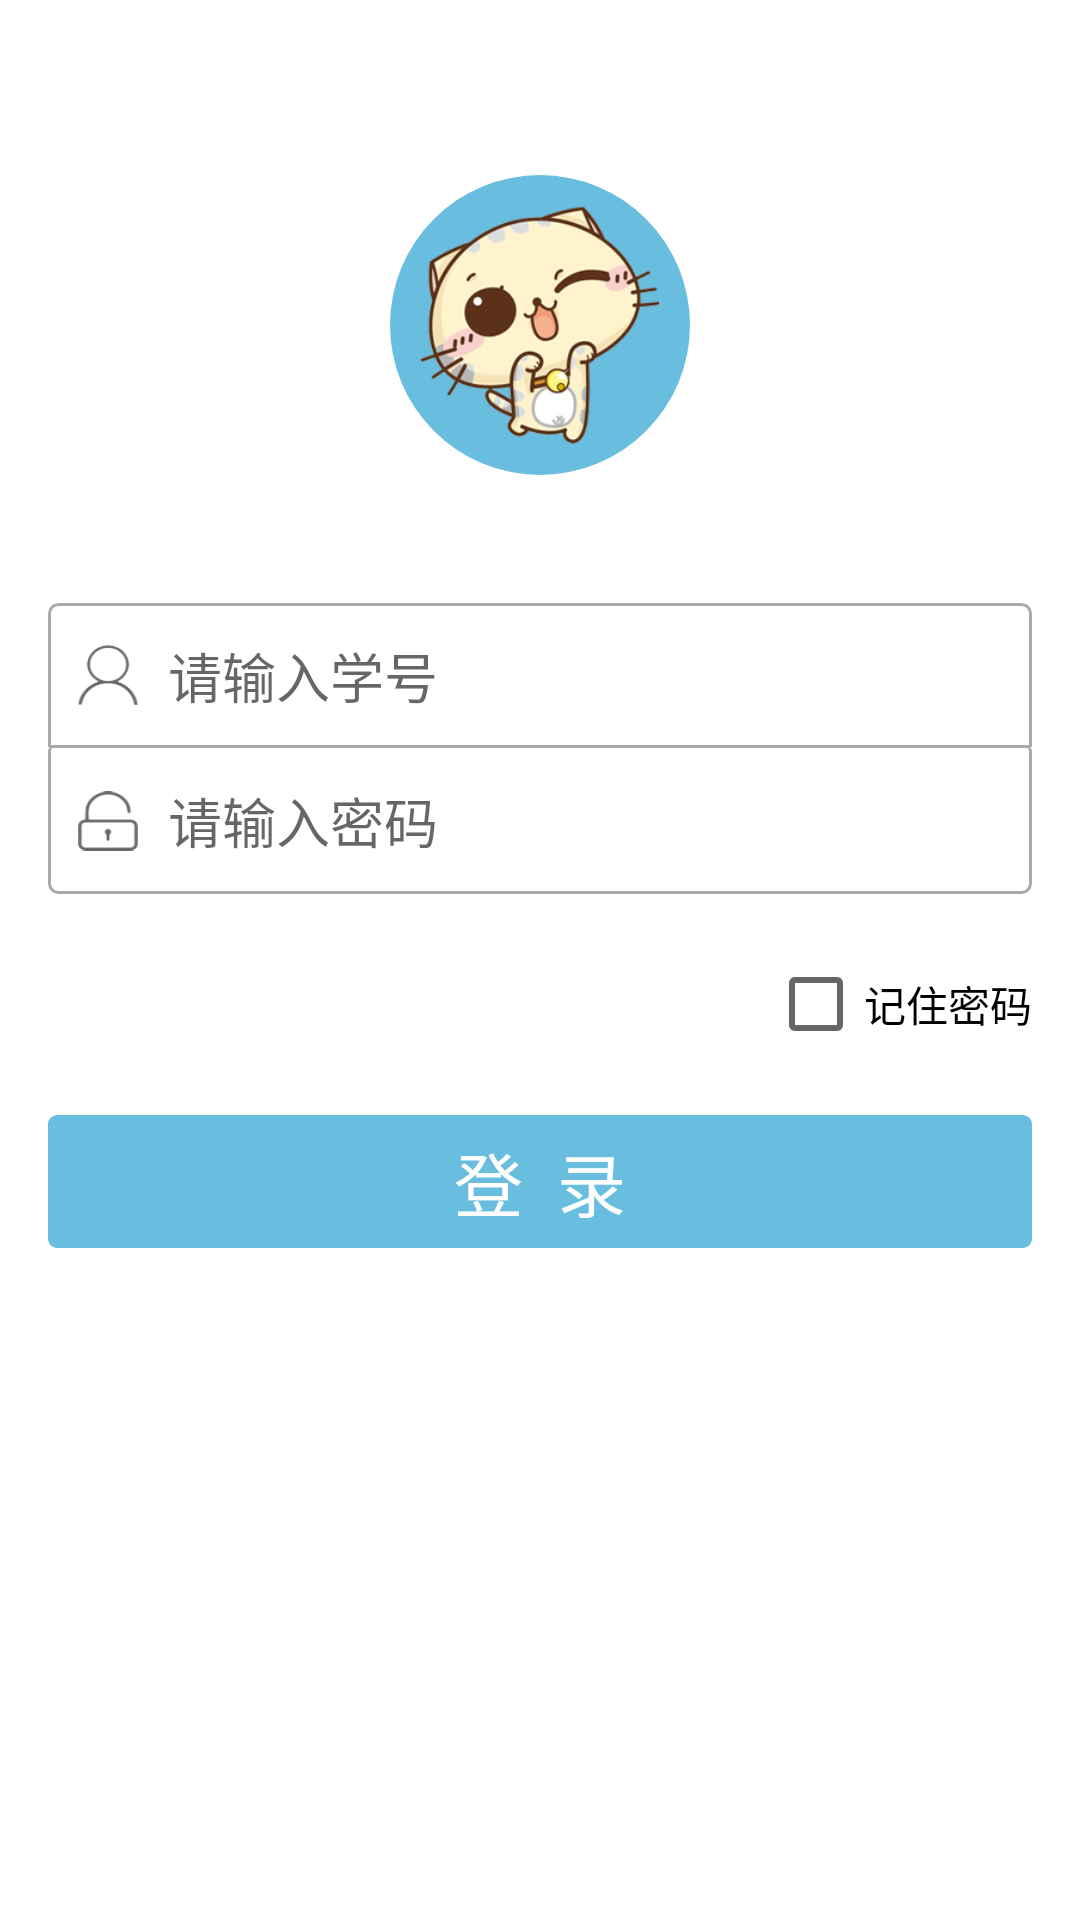

Icons on this 1080×1920 Android screen, each with its box as (x1, y1, x2, y2):
login password pic: (78, 791, 138, 851)
login username pic: (78, 645, 138, 705)
